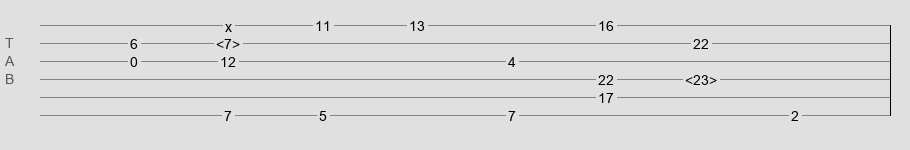0: (130, 54, 138, 64)
11: (315, 18, 331, 28)
12: (220, 54, 236, 64)
13: (409, 18, 425, 28)
16: (598, 18, 614, 28)
17: (598, 90, 614, 100)
2: (791, 108, 799, 118)
22: (598, 72, 614, 82), (693, 36, 709, 46)
4: (508, 54, 516, 64)
5: (319, 108, 327, 118)
6: (130, 36, 138, 46)
7: (224, 108, 232, 118), (508, 108, 516, 118)
harmonic: (685, 72, 717, 82), (216, 36, 240, 46)
x: (225, 19, 232, 27)
